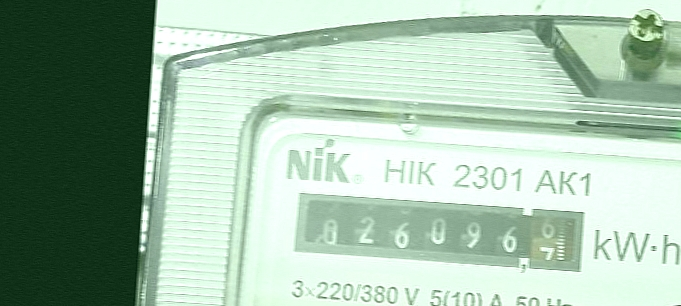0: (425, 212, 448, 248), (317, 212, 339, 246)
2: (353, 211, 377, 247)
6: (390, 215, 411, 252), (498, 220, 518, 254), (536, 212, 557, 241)
7: (536, 241, 555, 264)
9: (461, 217, 482, 250)
screen: (282, 181, 592, 283)
